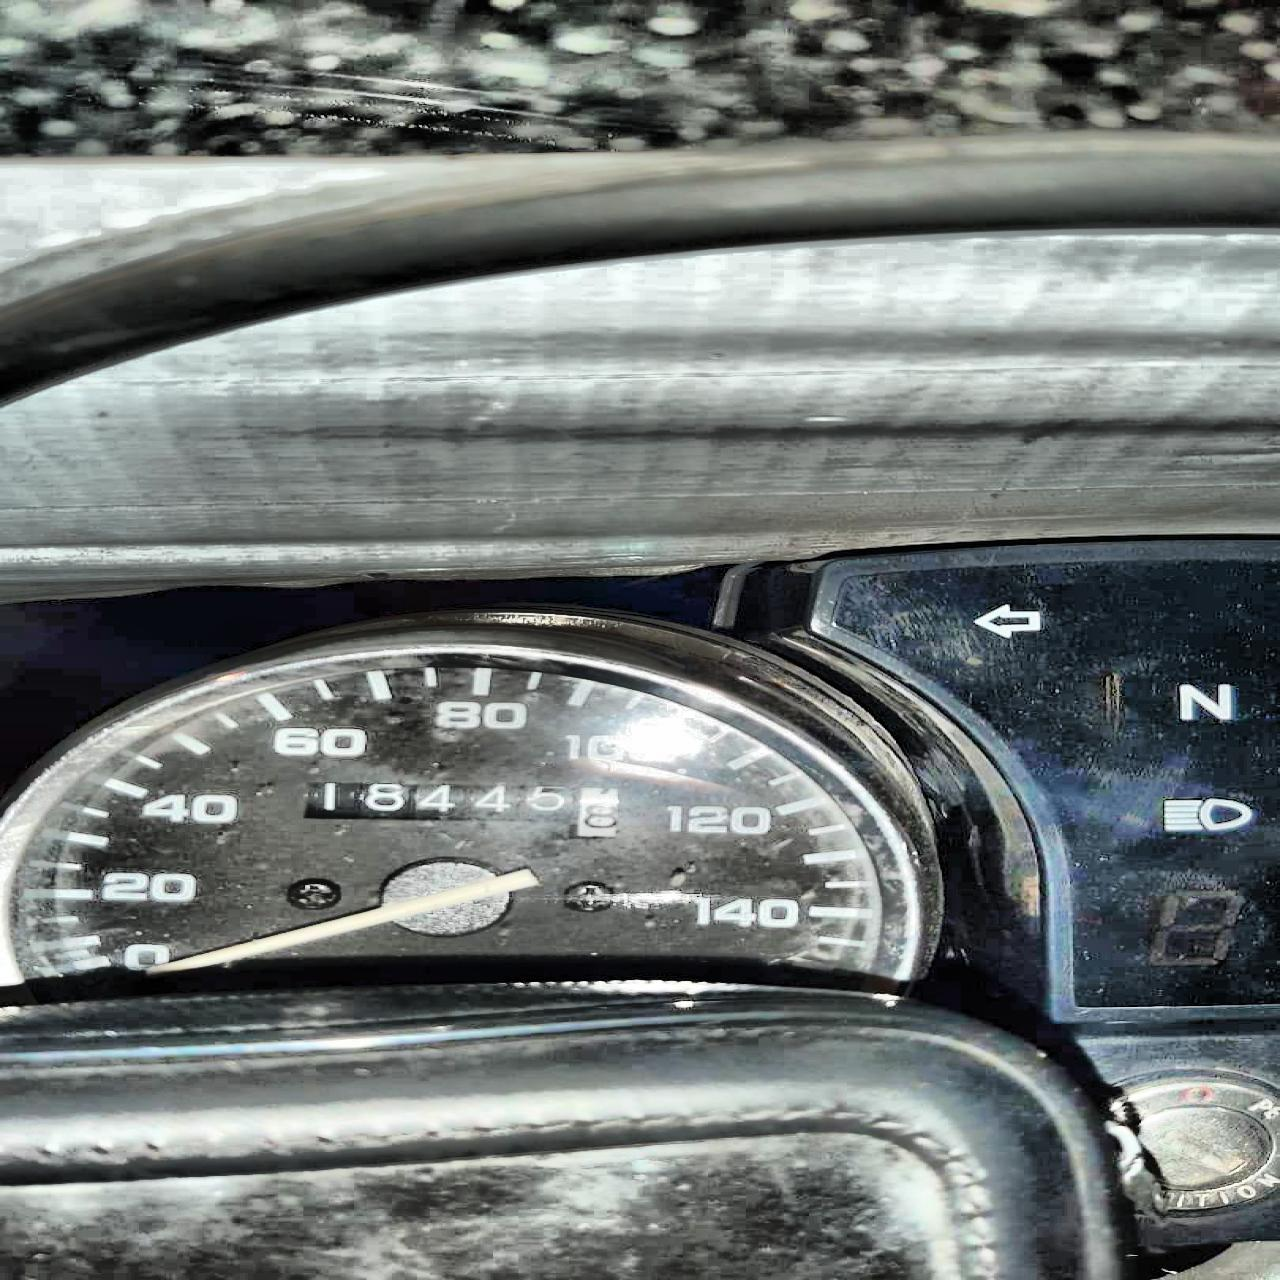1: (315, 781, 341, 810)
4: (413, 783, 458, 813), (468, 783, 512, 813)
5: (523, 783, 566, 812)
8: (360, 781, 406, 812), (580, 802, 621, 830)
odometer: (291, 776, 631, 842)
